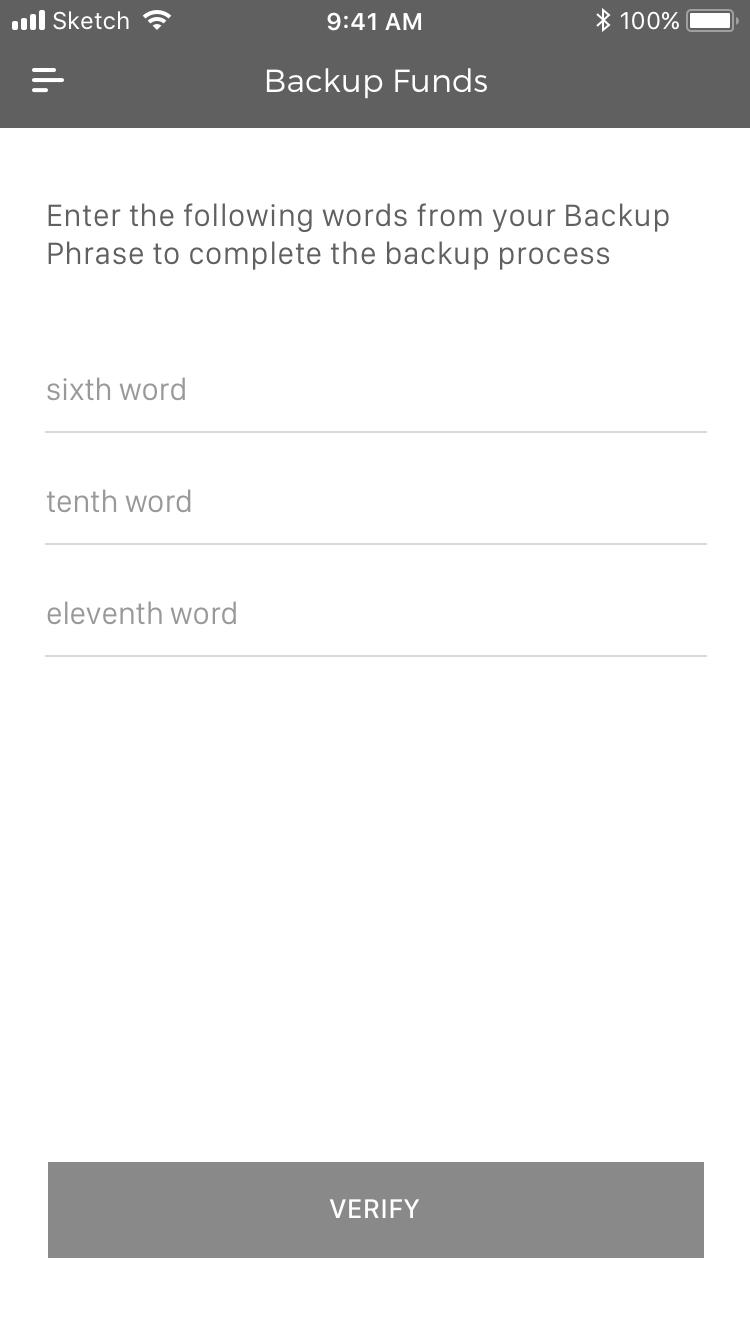EditText: (44, 489, 710, 547), (44, 601, 710, 659), (44, 377, 709, 435)
Icon: (31, 67, 66, 95)
Text: (47, 203, 670, 273), (266, 66, 489, 102), (48, 601, 237, 625), (47, 489, 192, 514), (47, 377, 186, 401)
TextButton: (48, 1161, 705, 1259)
UpperTaskBar: (1, 1, 750, 35)
